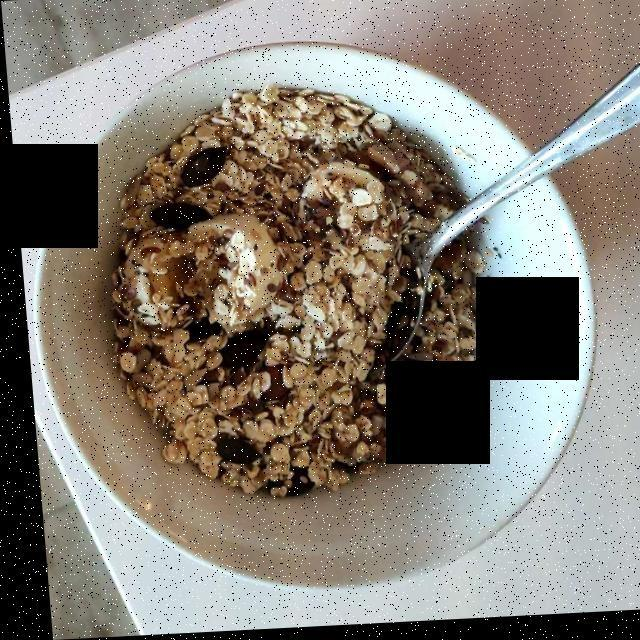oats: (106, 96, 471, 495)
